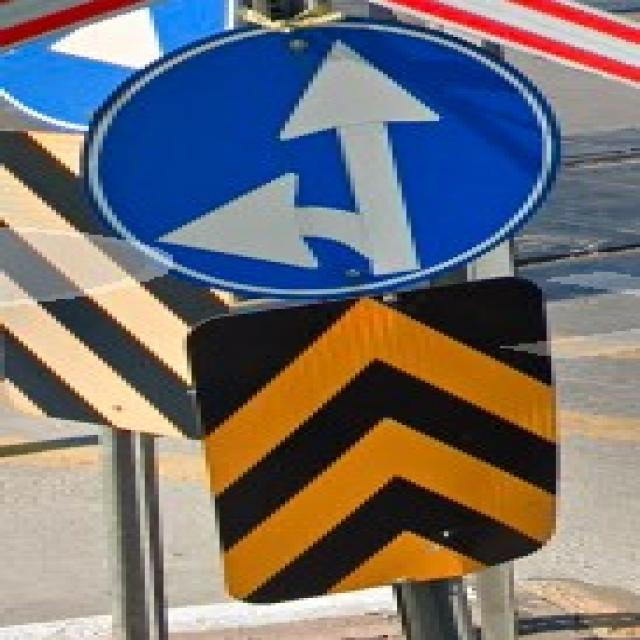Straight or Left: (83, 20, 559, 297)
